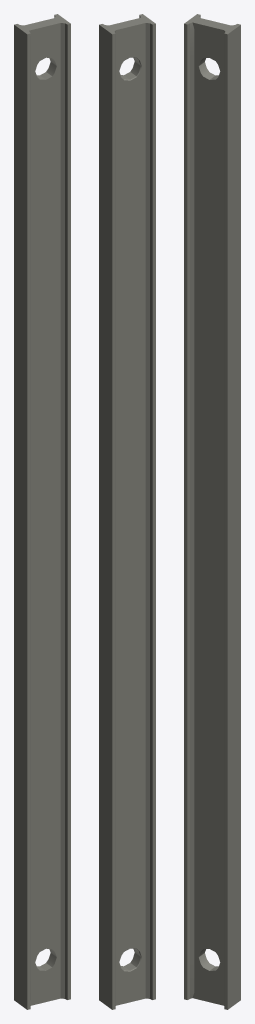
Rendered from metal_rod_long_02.fbx.
3 renders of one model, left to right at view 1: azimuth 30°, elevation 25°; view 2: azimuth 210°, elevation 25°; view 3: azimuth 330°, elevation 25°, orthographic.
Visible parts, largest first — view 1: metal_rod_long_02; view 2: metal_rod_long_02; view 3: metal_rod_long_02.
Part boxes in pixels (x1,y1,x2,y2): metal_rod_long_02: (14,14,70,1009); metal_rod_long_02: (99,14,155,1009); metal_rod_long_02: (184,14,240,1009).
Bounding box in the file's own units: 21.05 × 449 × 11.05.
